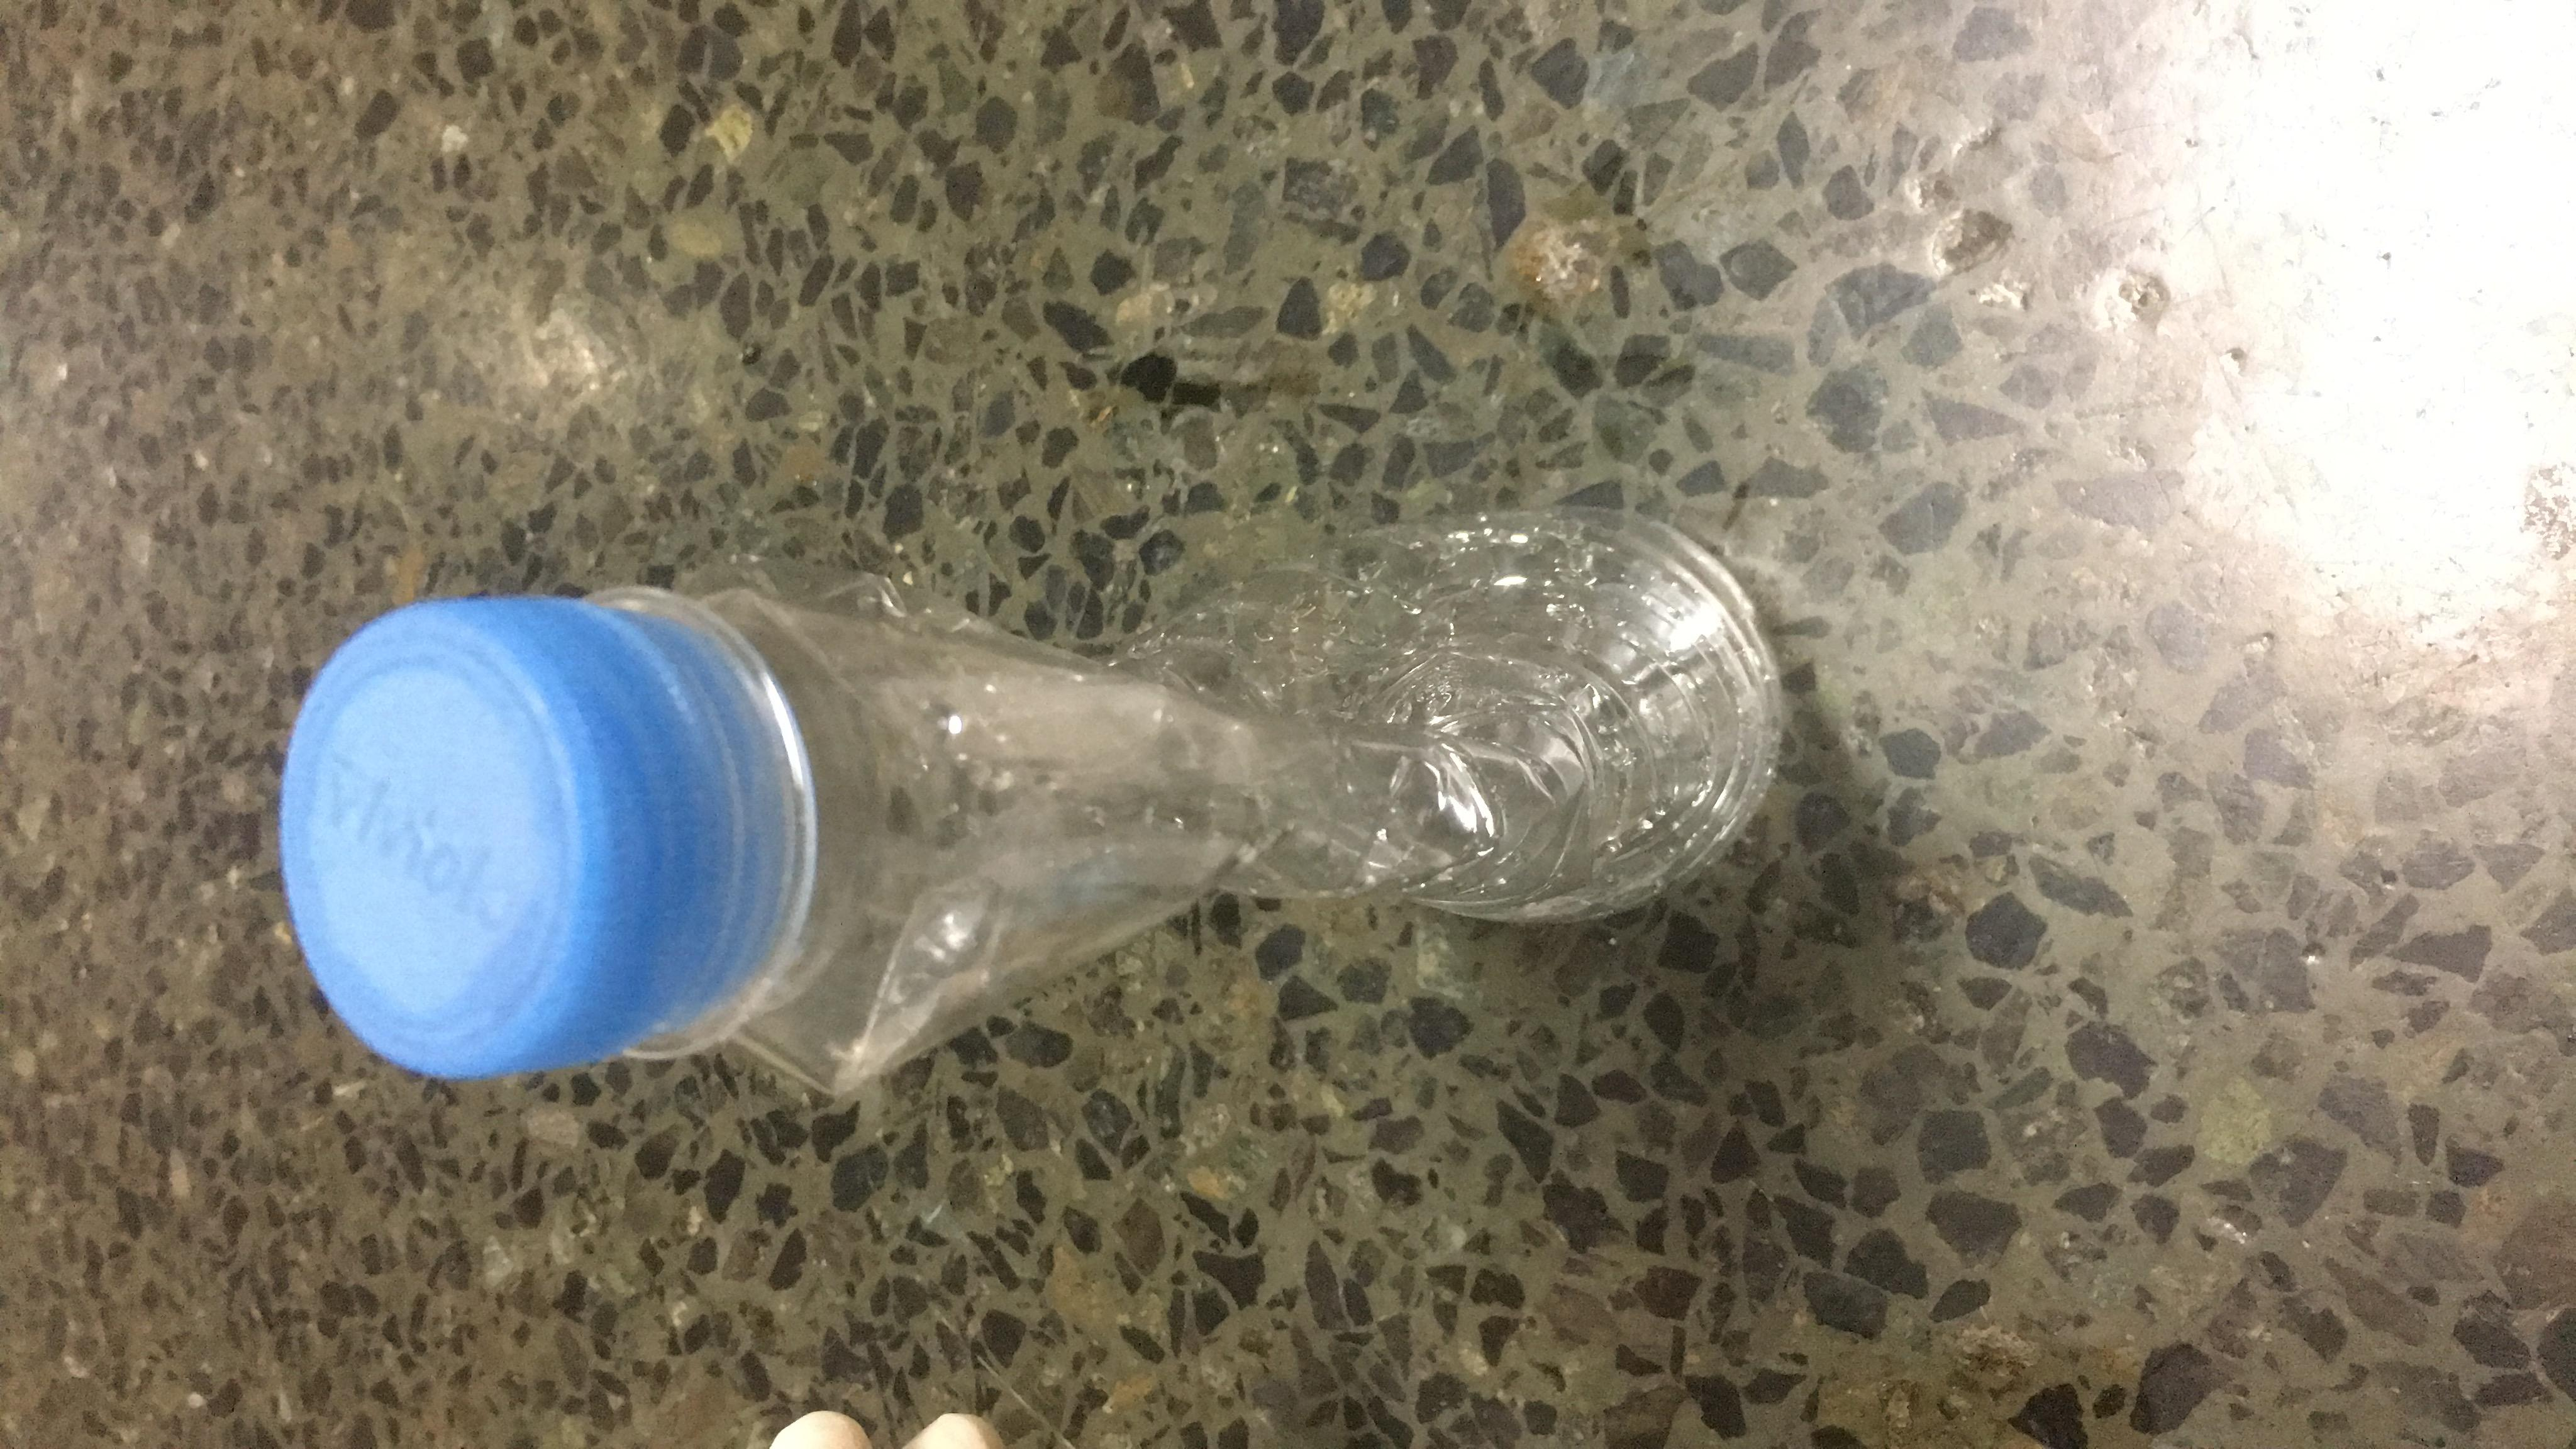bottle: (315, 138, 1875, 1007)
